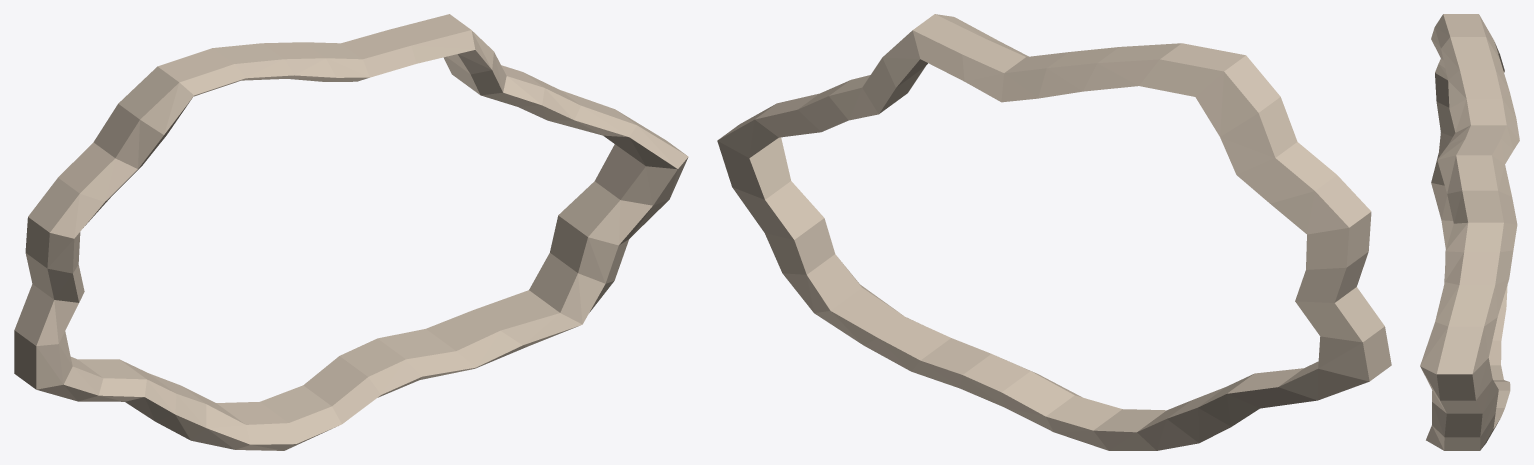
The model's file is Geode_Rim_B.fbx.
3 views of the same model, side by side, from view 1: azimuth 30°, elevation 25°; view 2: azimuth 150°, elevation 25°; view 3: azimuth 270°, elevation 25° (orthographic). The views are drawn at different scales.
Visible parts, largest first — view 1: Rim; view 2: Rim; view 3: Rim.
Part boxes in pixels (bbox=[...]): Rim: bbox=[14, 14, 688, 450]; Rim: bbox=[717, 14, 1391, 450]; Rim: bbox=[1420, 14, 1519, 450].
Bounding box in the file's own units: 3.08 × 1.81 × 0.5027.
